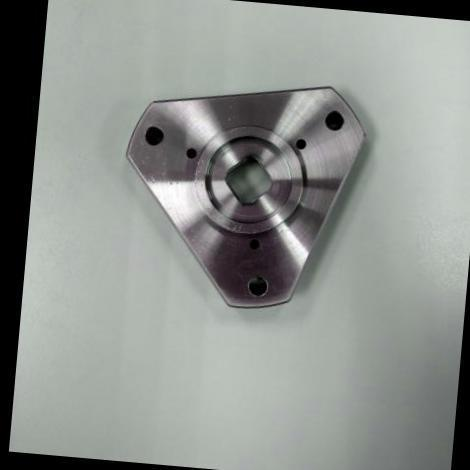hole: (244, 272, 270, 299), (322, 106, 347, 134), (140, 123, 168, 148), (246, 236, 263, 252), (294, 136, 307, 152), (184, 146, 198, 160)
